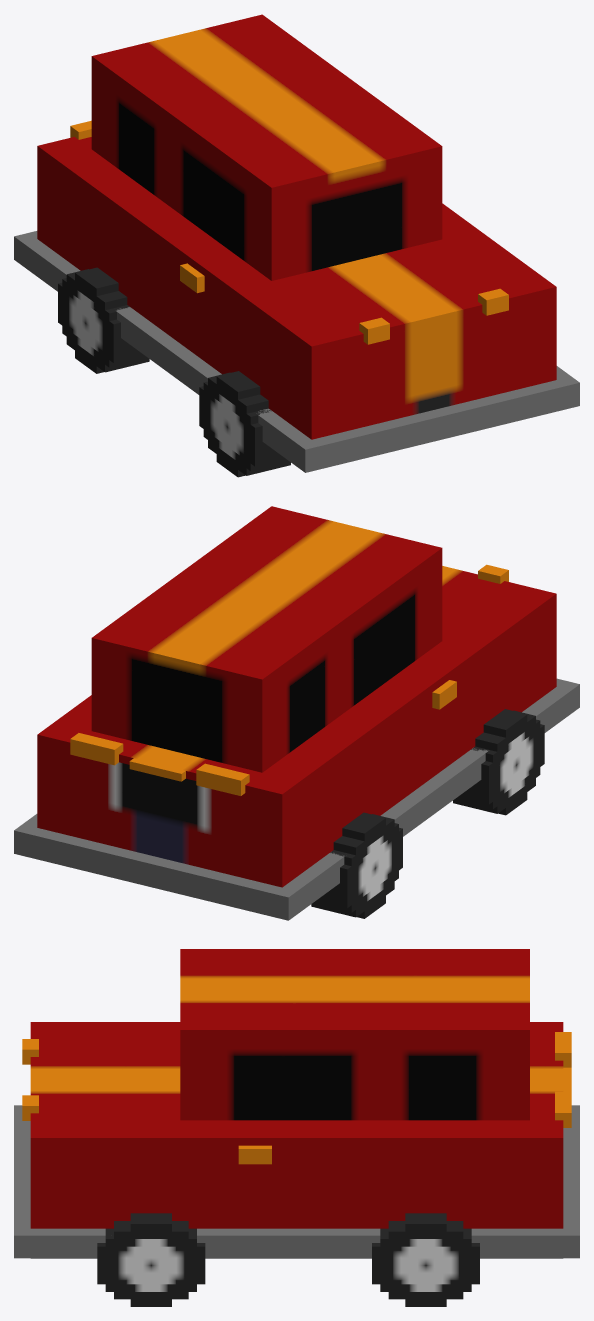
Rendered from car_4.fbx.
3 views of the same model, one above another, from view 1: azimuth 30°, elevation 25°; view 2: azimuth 150°, elevation 25°; view 3: azimuth 270°, elevation 25° (orthographic). The views are drawn at different scales.
Visible parts, largest first — view 1: body, back_right_wheel, back_left_wheel; view 2: body, back_right_wheel, back_left_wheel; view 3: body, front_right_wheel, front_left_wheel.
Part boxes in pixels (x1,y1,x2,y2): body: [14, 14, 579, 472]; back_right_wheel: [199, 371, 290, 477]; back_left_wheel: [58, 267, 149, 373]; body: [14, 506, 579, 920]; back_right_wheel: [453, 709, 544, 815]; back_left_wheel: [311, 812, 402, 918]; body: [14, 949, 579, 1258]; front_right_wheel: [97, 1213, 205, 1306]; front_left_wheel: [372, 1213, 479, 1306].
Size of the model in its own units: 39 by 33 by 68.
Materials: 1 (1 with a texture image).
